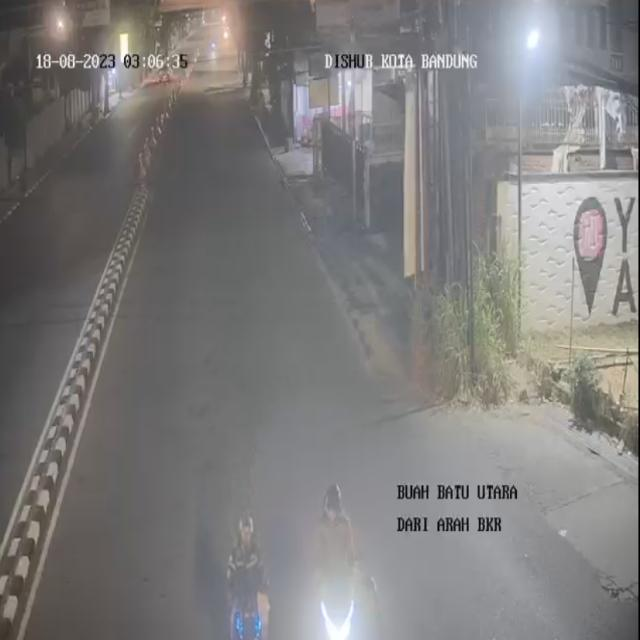motorcycle: (302, 484, 362, 640), (218, 504, 282, 639)
